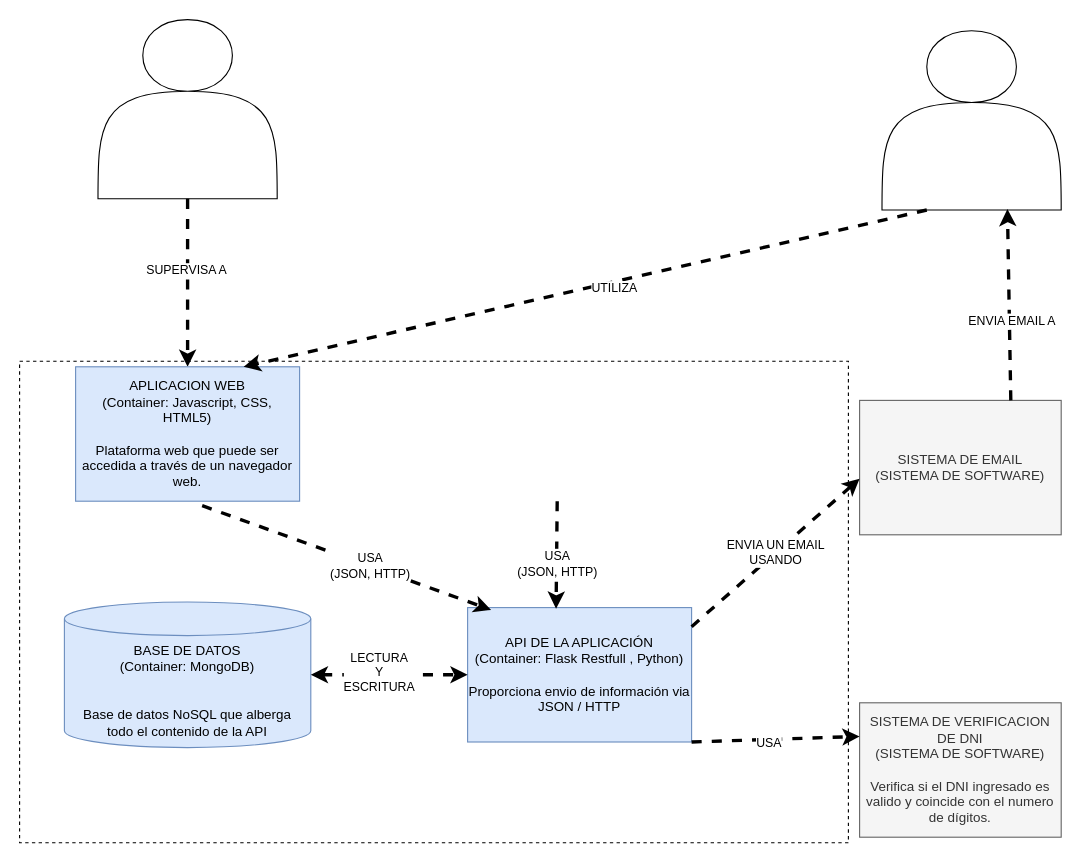
This 1081x862 diagram has some shape labels left out. Each missing label, with the centre of its shape:
ADMINISTRADOR Personal de Opinalo: point (187, 108)
USUARIO Usuario común de Opinalo, trabajador o empresa cliente.: point (971, 120)
